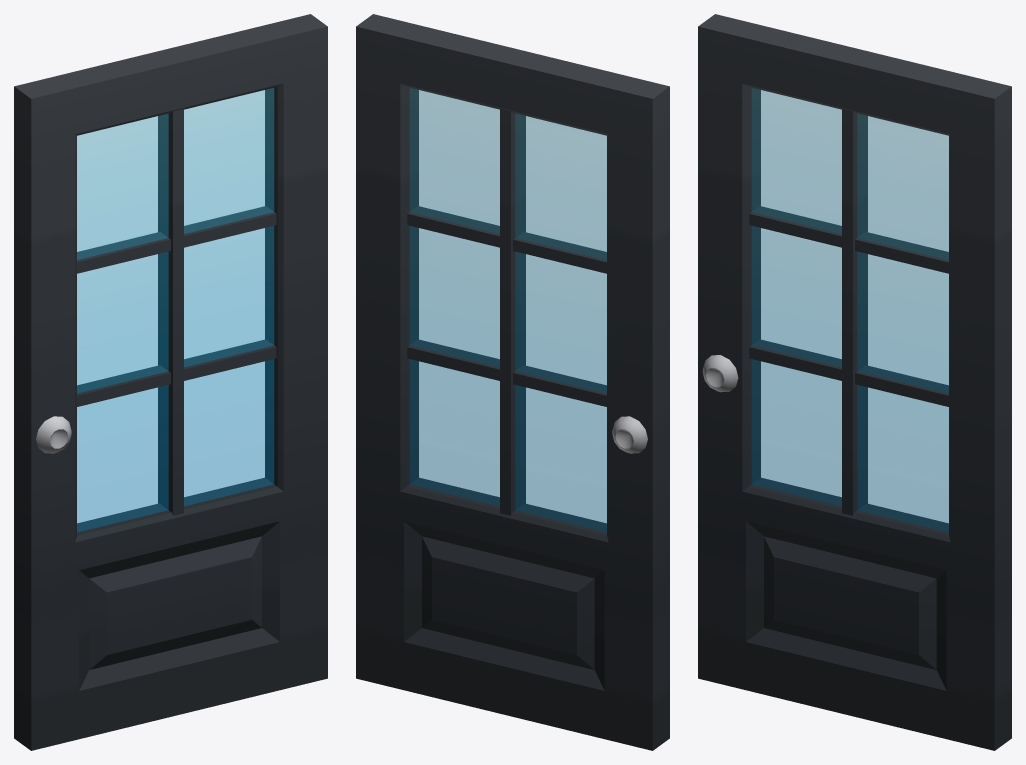
Rendered from Door_Black_01.glb.
The picture shows the model from 3 angles, left to right: view 1: azimuth 30°, elevation 25°; view 2: azimuth 150°, elevation 25°; view 3: azimuth 330°, elevation 25°; orthographic projection.
Visible parts, largest first — view 1: Door_Black_01; view 2: Door_Black_01; view 3: Door_Black_01.
Part boxes in pixels (bbox=[...]): Door_Black_01: bbox=[14, 14, 327, 750]; Door_Black_01: bbox=[356, 14, 669, 750]; Door_Black_01: bbox=[698, 14, 1011, 750].
Bounding box in the file's own units: 1 × 2.1 × 0.1634.
2 materials, 2 textured.
